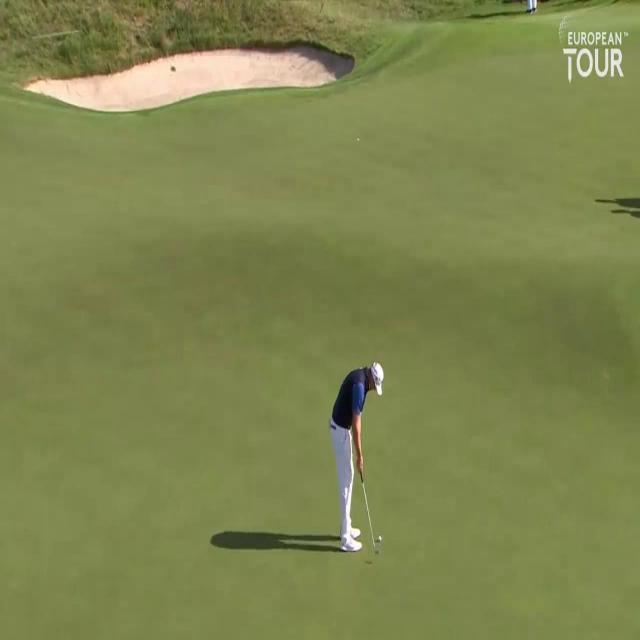GolfBall: (373, 525, 388, 544)
